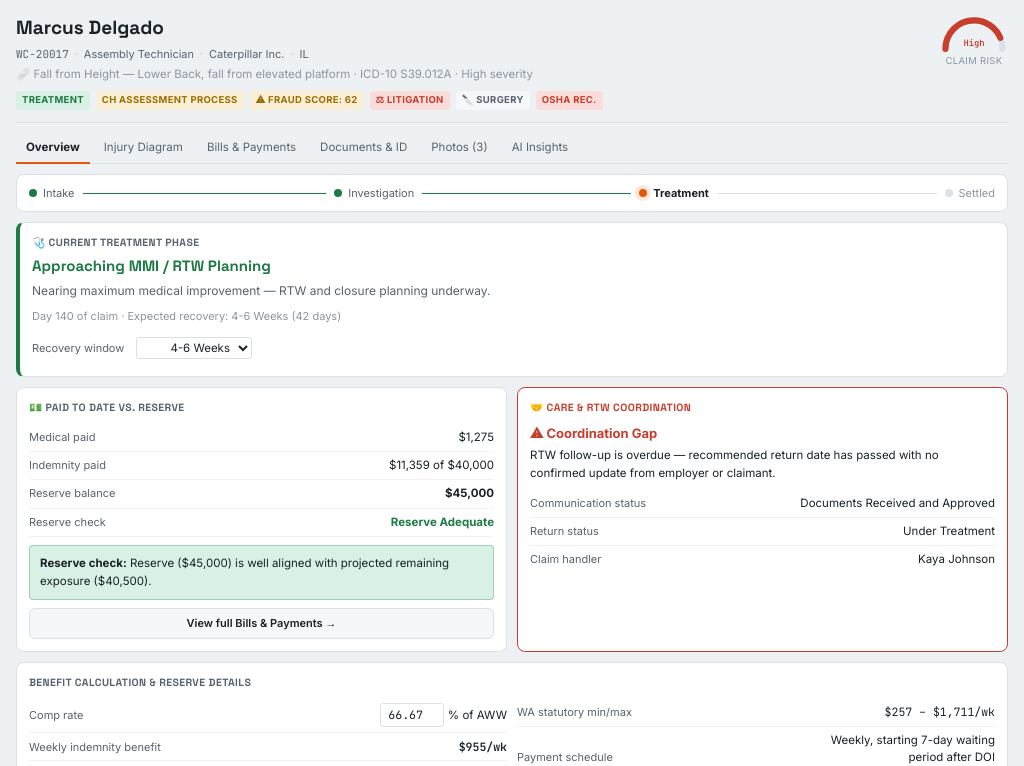
Test: every document row is reachable by keyboard
The image size is (1024, 766).
Click the tab with test id "tab-documents".
click(364, 148)  # box left=310, top=132, right=417, bottom=164
(page scrolled)
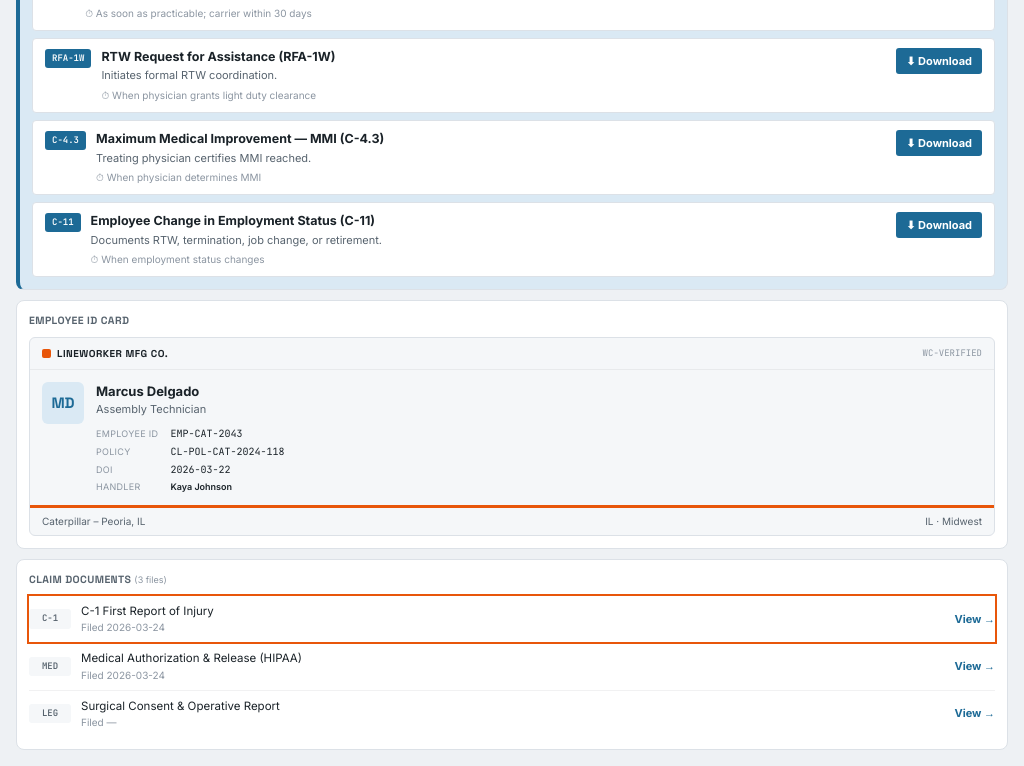
Press Enter
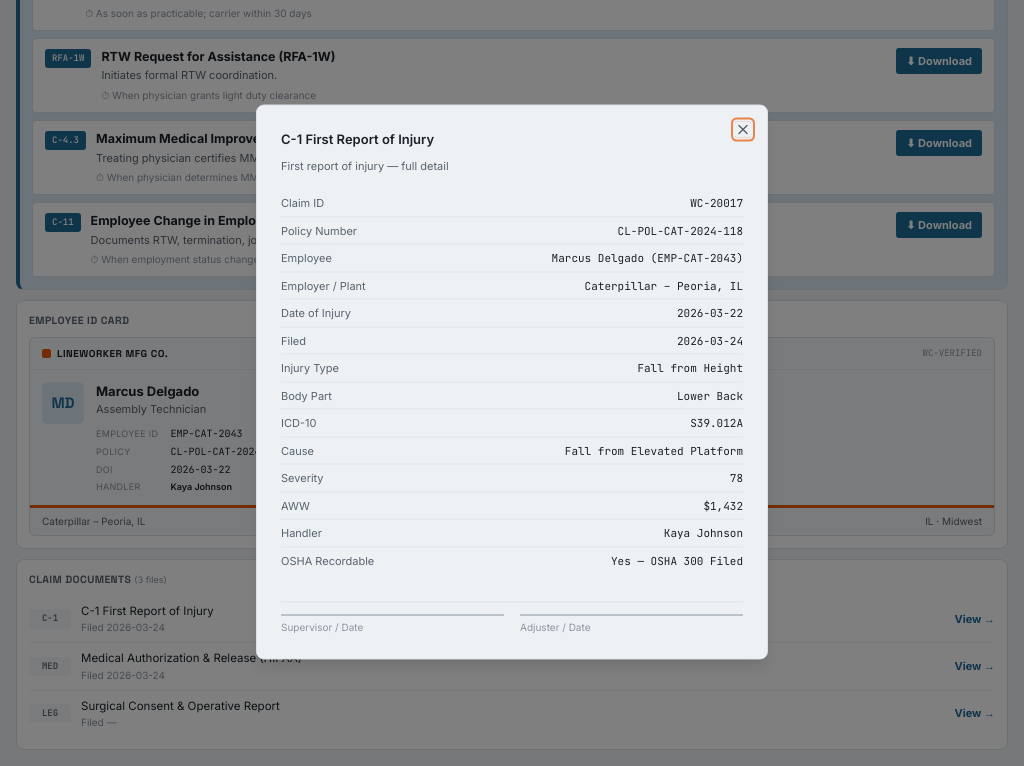
Check: the dialog with test id "document-viewer" is shown, box left=256, top=104, right=768, bottom=660
